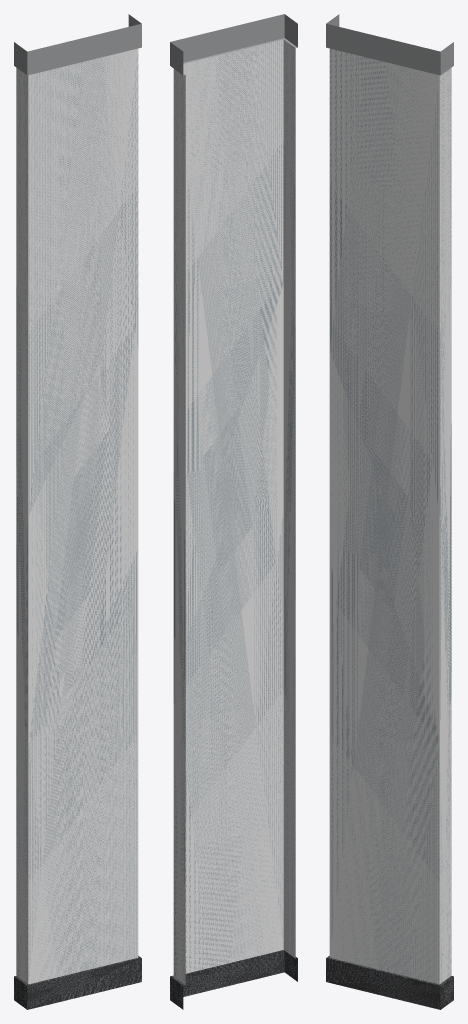
Rendered from Column_os_plinth_050x010x4.dae.
3 views of the same model, side by side, from view 1: azimuth 30°, elevation 25°; view 2: azimuth 210°, elevation 25°; view 3: azimuth 330°, elevation 25° (orthographic).
Visible parts, largest first — view 1: group_0 (×3); view 2: group_0 (×3); view 3: group_0 (×3).
Boxes of the visible parts, box(x1,y1,x2,y2) form: group_0 (×3): box(14, 14, 141, 1009); group_0 (×3): box(170, 14, 297, 1009); group_0 (×3): box(326, 14, 453, 1009).
Size of the model in its own units: 19.69 by 3.94 by 157.
